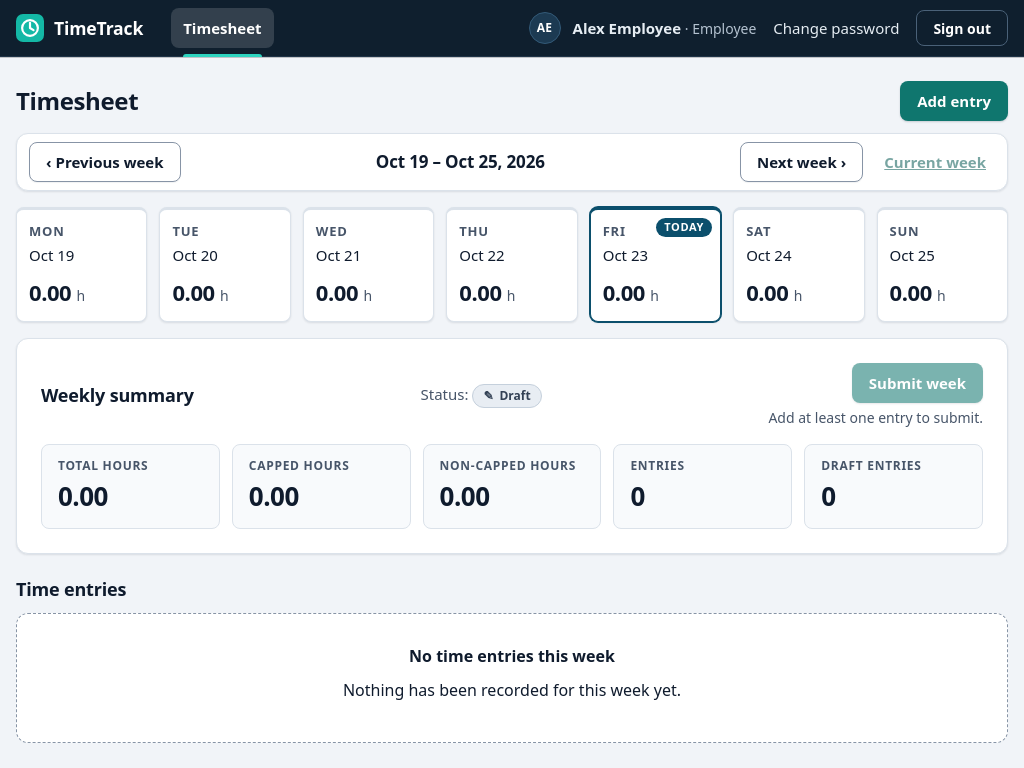
Test case: Week mode › treats switching mode alone as unchanged, but typing in the grid as unsaved work
The width and height of the screenshot is (1024, 768).
Click the button "Add entry" at (954, 101), box [900,81,1008,121]
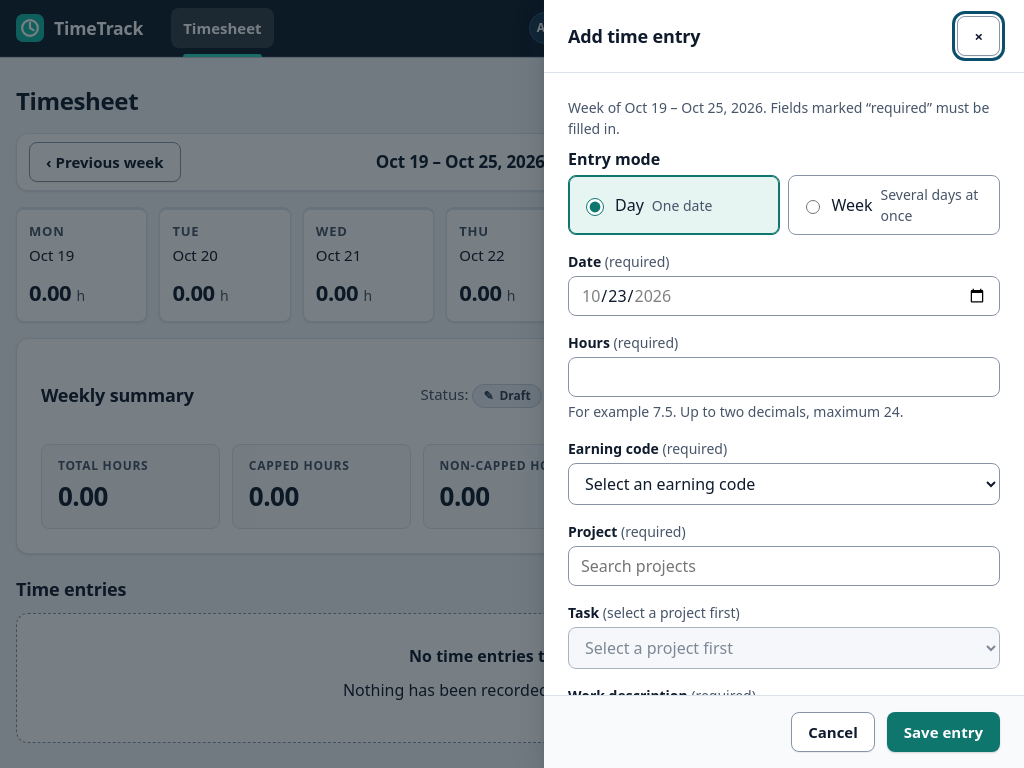
Click the radio button labelled "Week Several days at once" at (813, 206), box [806,198,820,216]
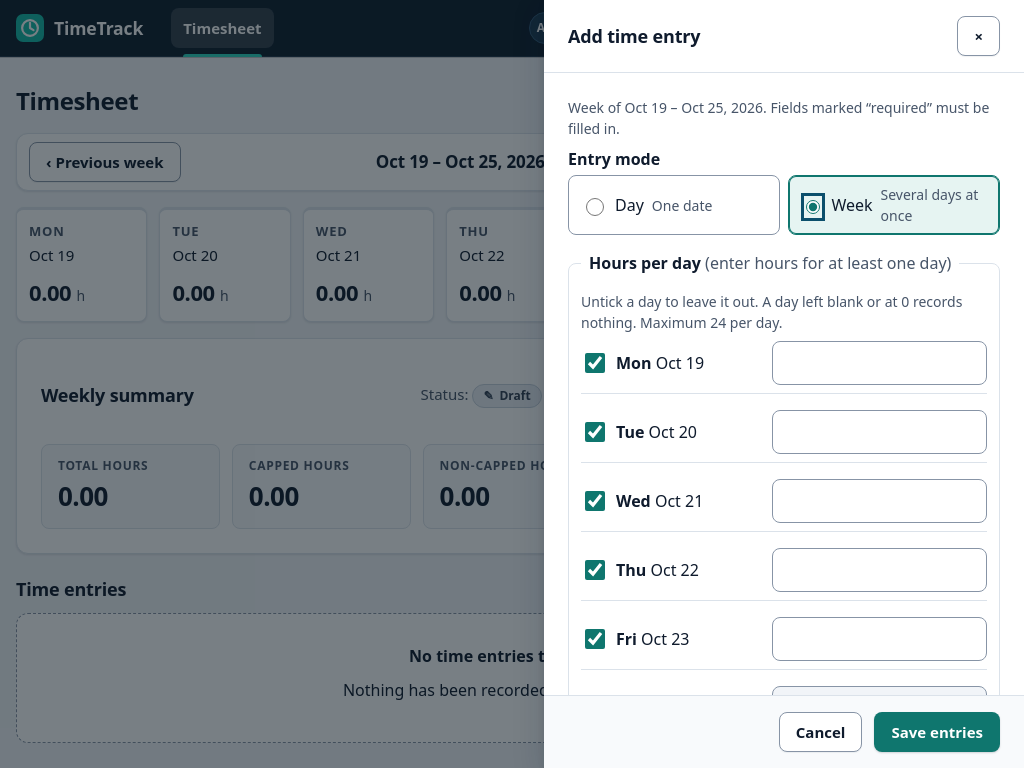
Click the button "Cancel" at (821, 732), box [779,712,862,752]
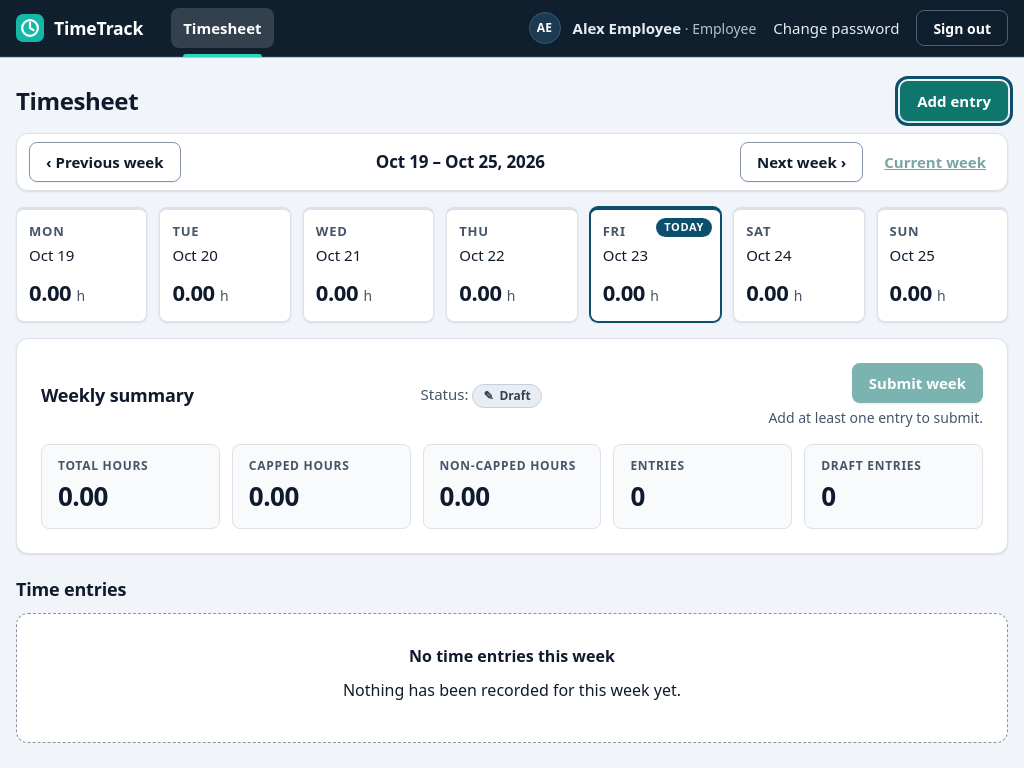
Result: the dialog is gone
Click the button "Add entry" at (954, 101), box [900,81,1008,121]
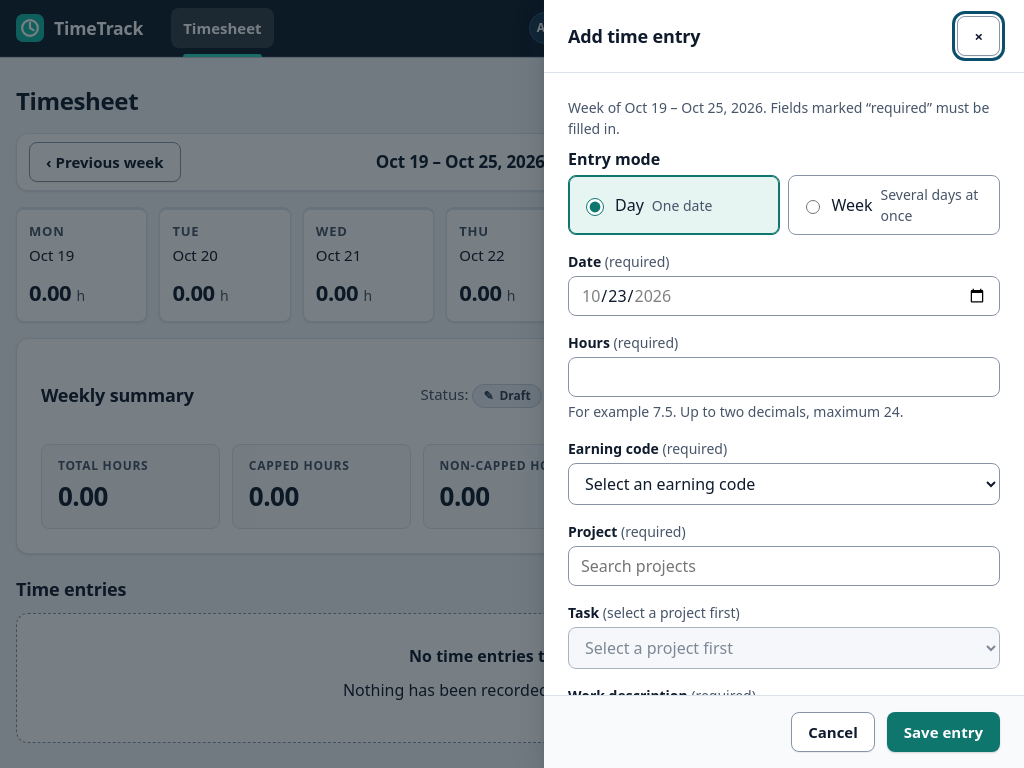
Click the radio button labelled "Week Several days at once" at (813, 206), box [806,198,820,216]
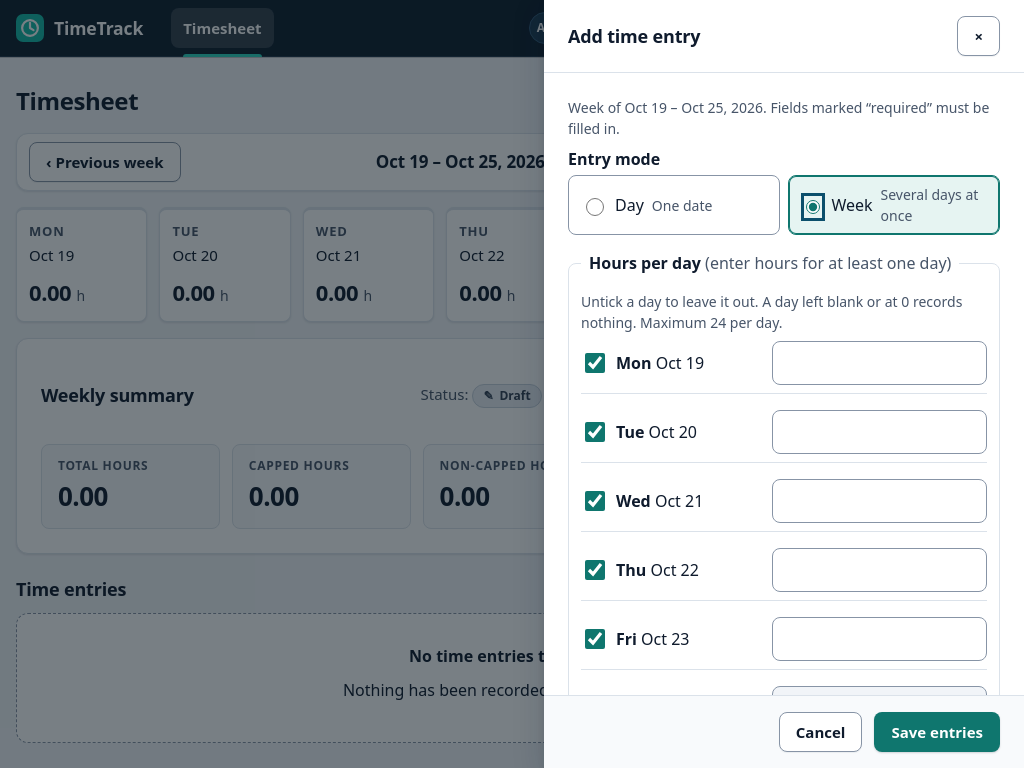
Type "2" into the field named "Hours for Monday, October 19" at (880, 363), box [772,341,987,385]
Click the button "Cancel" at (821, 732), box [779,712,862,752]
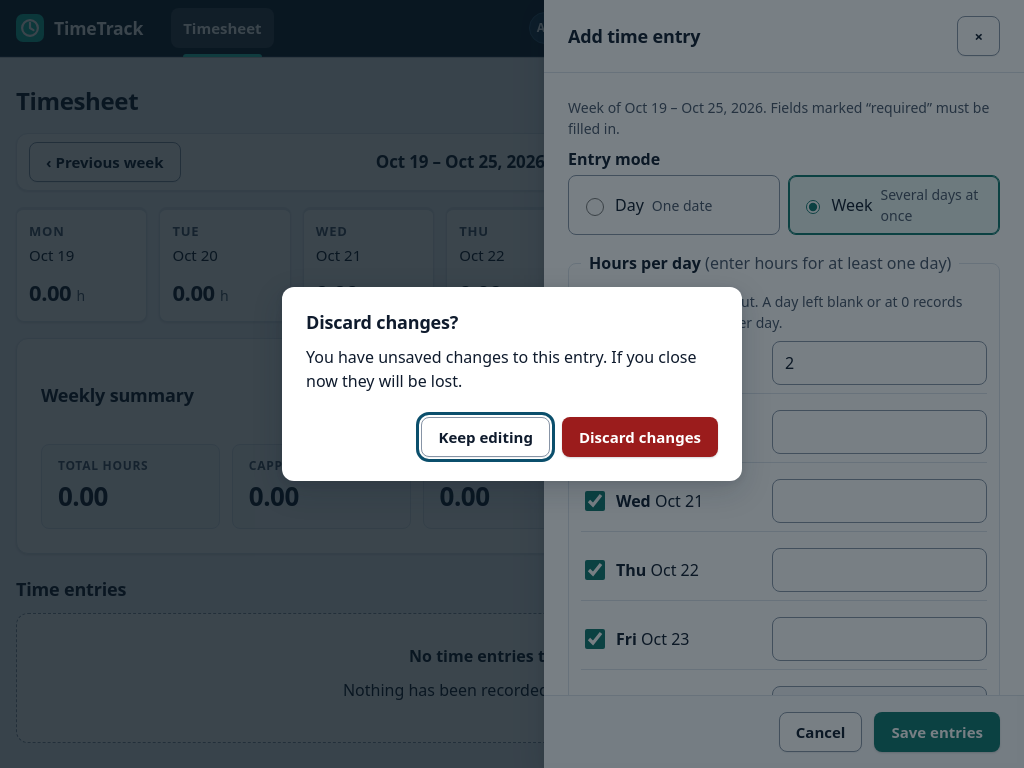
Result: the dialog "Discard changes?" is shown at [282,287,742,481]
